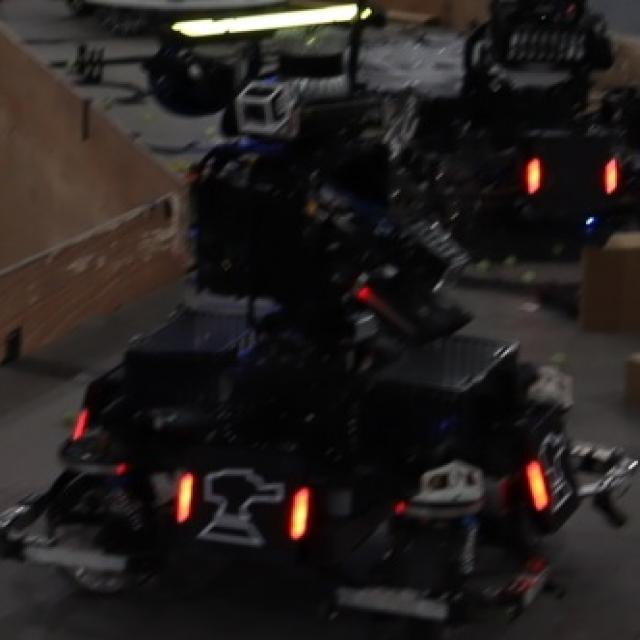Rs: (170, 461, 314, 549), (524, 421, 580, 516)
